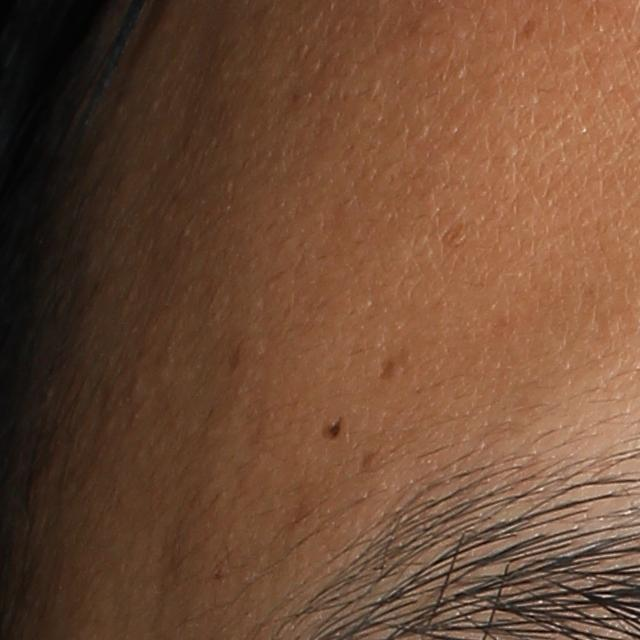nevus: (320, 413, 347, 443)
